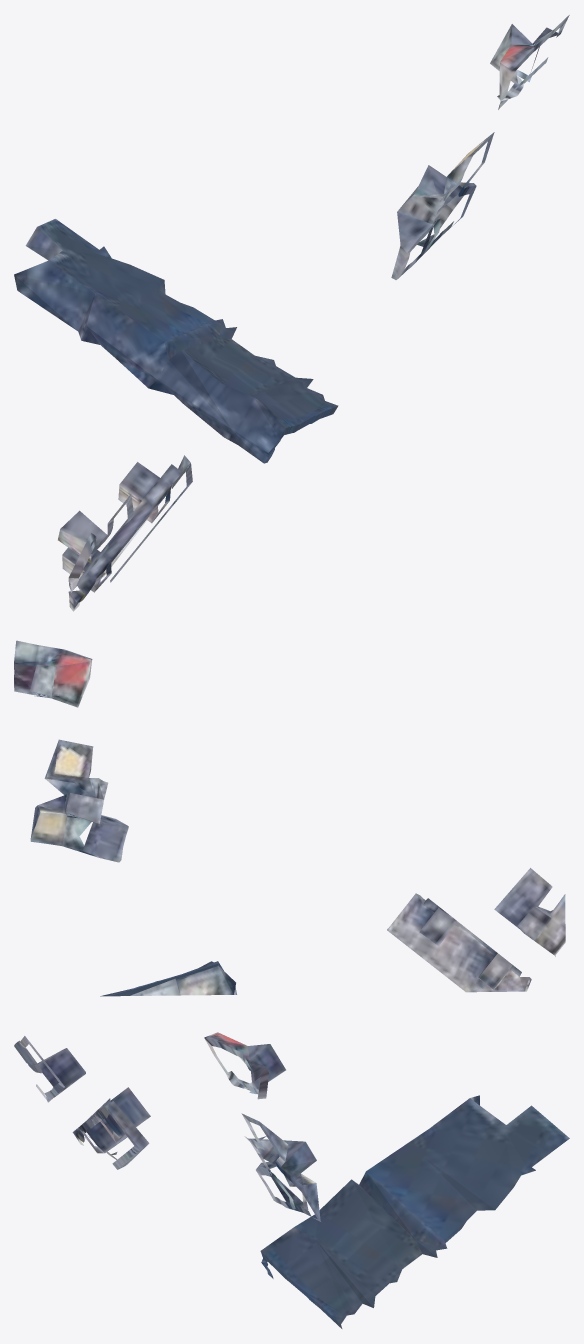
3 renders of one model, top to bottom at view 1: azimuth 30°, elevation 25°; view 2: azimuth 150°, elevation 25°; view 3: azimuth 270°, elevation 25°, orthographic. The views are drawn at different scales.
Size of the model in its own units: 135 by 83.43 by 118.
Materials: 1 (1 with a texture image).
